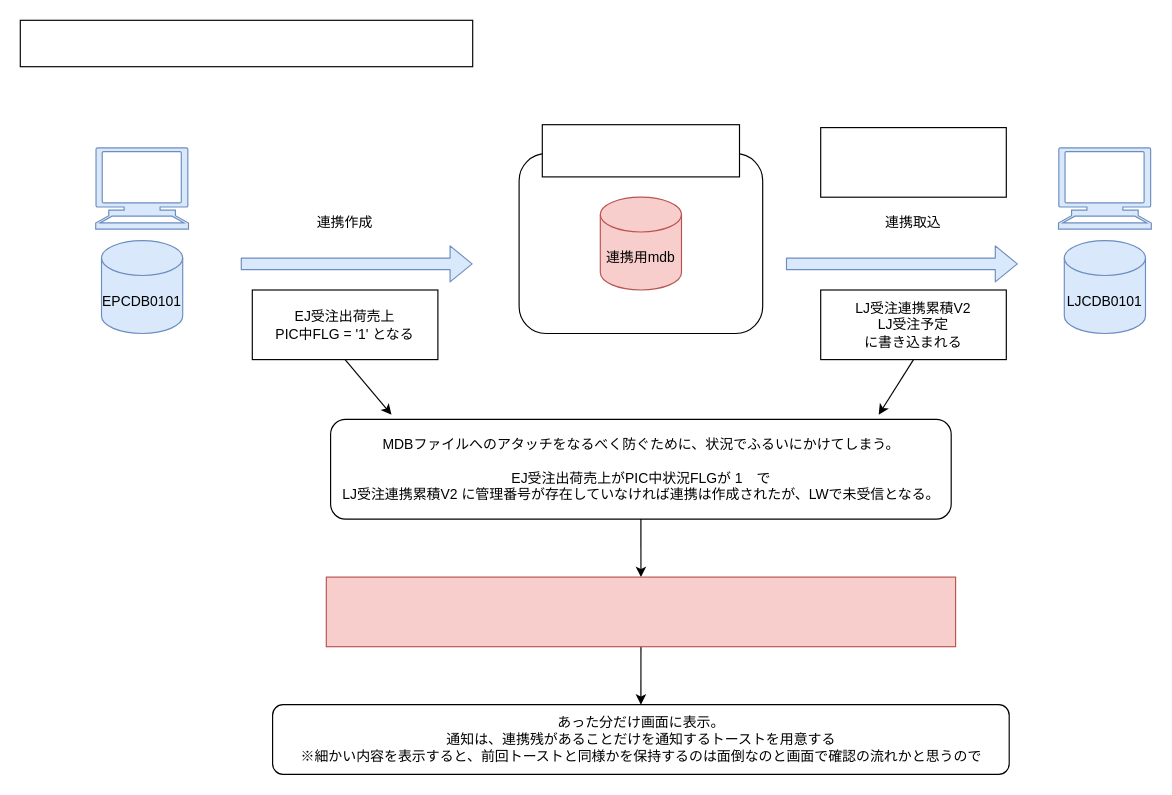
This 1172x795 diagram has some shape labels left out. Each missing label, with the box of its shape:
LM受信取込定義マスタから アタッチするテーブル名を 取得している。: (820, 126, 1006, 197)
LW-EP 連携モニタリング機能: (19, 19, 473, 67)
取得した未受信リストを受信定義に当てた結果からMDB内のテーブルを得られるので MDB内にテーブルがあり、データが１件以上入っているか走査する。: (325, 576, 956, 647)
渋谷DC WIN-5SNALMBP319 共有フォルダ: (541, 124, 740, 177)
